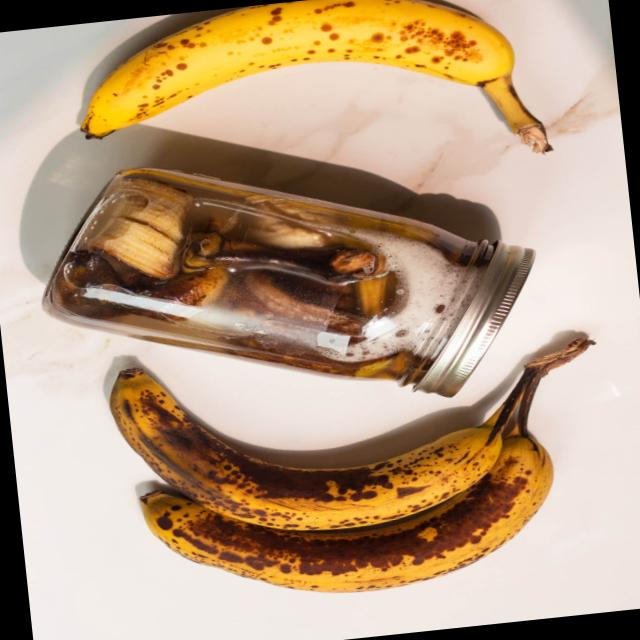banana_peel: (100, 330, 607, 604), (41, 0, 561, 167)
glass: (17, 155, 555, 404)
